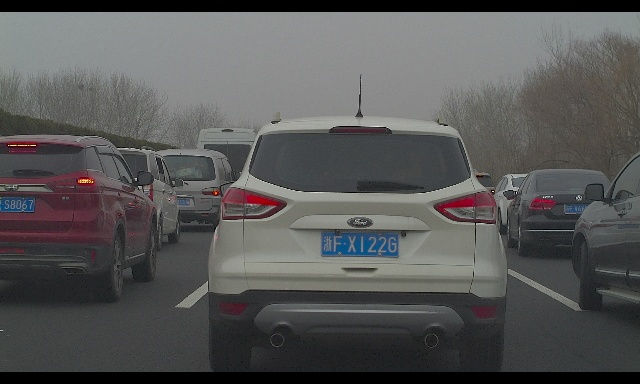car: (208, 113, 507, 371), (0, 134, 157, 303), (570, 149, 640, 310), (77, 146, 184, 251), (503, 169, 616, 257), (153, 148, 240, 230), (197, 128, 259, 205), (489, 173, 557, 235), (457, 172, 496, 215)
